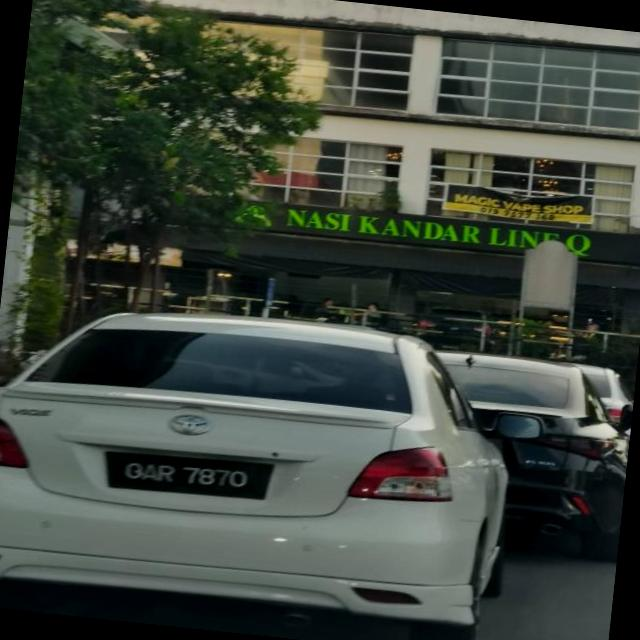ToyotaVios: (0, 285, 531, 640)
